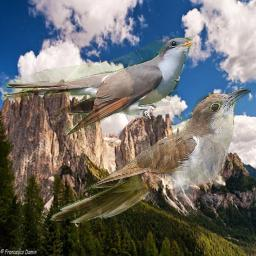Cuckoo: (49, 87, 251, 223), (2, 37, 193, 135)
